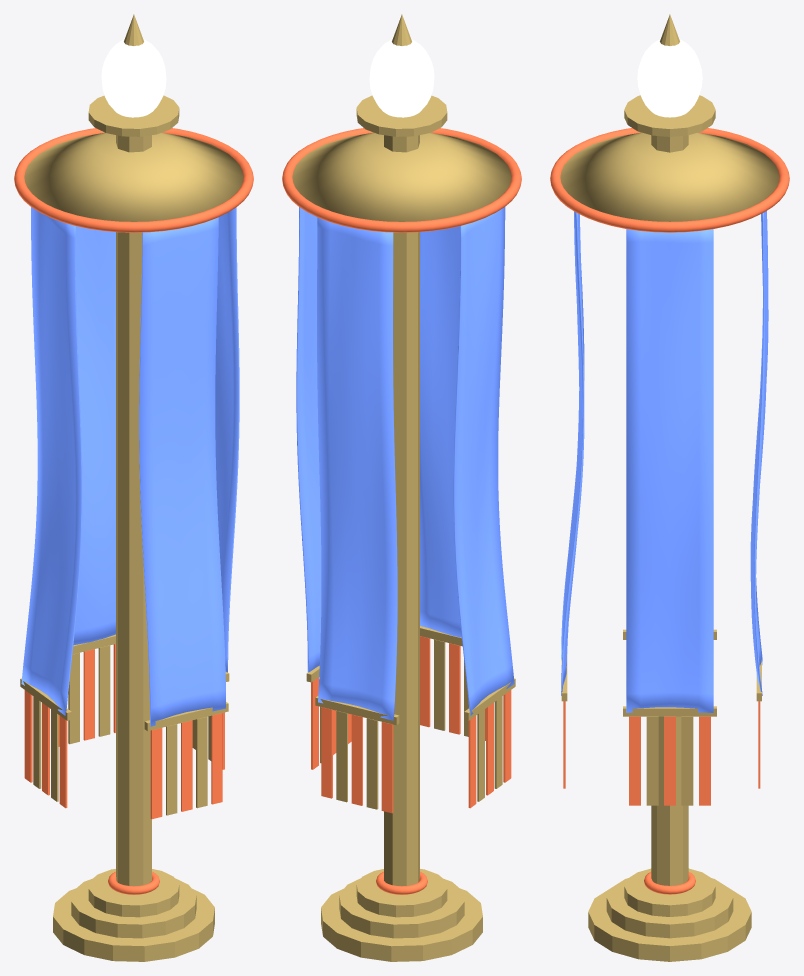
The model's file is houdou.glb.
The picture shows the model from 3 angles, left to right: view 1: azimuth 30°, elevation 25°; view 2: azimuth 150°, elevation 25°; view 3: azimuth 270°, elevation 25°; orthographic projection.
Parts seen in each view (by area): view 1: banner.003, banner.002, shaft, banner.001, Cone.001, banner, base, canopy_rim, Sphere, base.001, base.002, cap (+15 smaller); view 2: banner.001, banner.002, shaft, banner.003, Cone.001, banner, base, canopy_rim, Sphere, base.001, base.002, cap (+16 smaller); view 3: banner, Cone.001, base, shaft, canopy_rim, Sphere, base.001, banner.003, banner.001, base.002, cap, tail.001 (+6 smaller).
Part boxes in pixels (<box>): banner.003: <box>139,217,225,726</box>; banner.002: <box>21,207,82,715</box>; shaft: <box>116,135,151,886</box>; banner.001: <box>73,226,115,645</box>; Cone.001: <box>24,132,243,221</box>; banner: <box>215,207,239,672</box>; base: <box>53,888,214,961</box>; canopy_rim: <box>14,128,253,232</box>; Sphere: <box>101,39,166,117</box>; base.001: <box>71,878,196,938</box>; base.002: <box>88,869,179,917</box>; cap: <box>88,95,179,136</box>; banner.001: <box>317,217,397,720</box>; banner.002: <box>453,207,514,715</box>; shaft: <box>384,135,419,886</box>; banner.003: <box>420,226,461,637</box>; Cone.001: <box>292,132,511,221</box>; banner: <box>296,207,321,672</box>; base: <box>321,888,482,961</box>; canopy_rim: <box>282,128,521,232</box>; Sphere: <box>369,39,434,117</box>; base.001: <box>339,878,464,938</box>; base.002: <box>356,869,447,917</box>; cap: <box>356,95,447,136</box>; banner: <box>626,229,713,712</box>; Cone.001: <box>560,132,779,221</box>; base: <box>588,888,751,961</box>; shaft: <box>651,135,688,885</box>; canopy_rim: <box>550,128,789,232</box>; Sphere: <box>637,39,702,117</box>; base.001: <box>606,878,733,938</box>; banner.003: <box>561,211,584,695</box>; banner.001: <box>750,211,768,695</box>; base.002: <box>624,868,715,916</box>; cap: <box>624,95,715,136</box>; tail.001: <box>646,716,658,805</box>.
Bounding box in the file's own units: 2.2 × 9.25 × 2.2.
